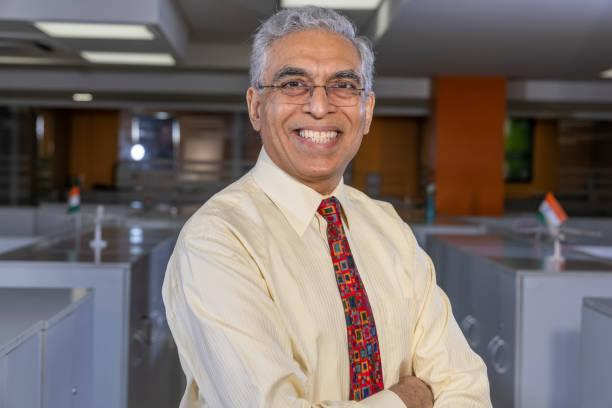Human: (172, 14, 500, 408)
